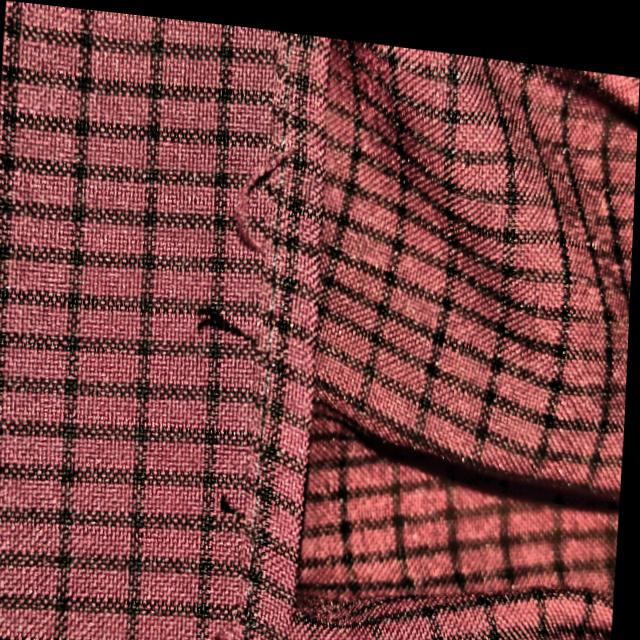Stitch: (162, 261, 353, 408), (201, 96, 342, 280)
